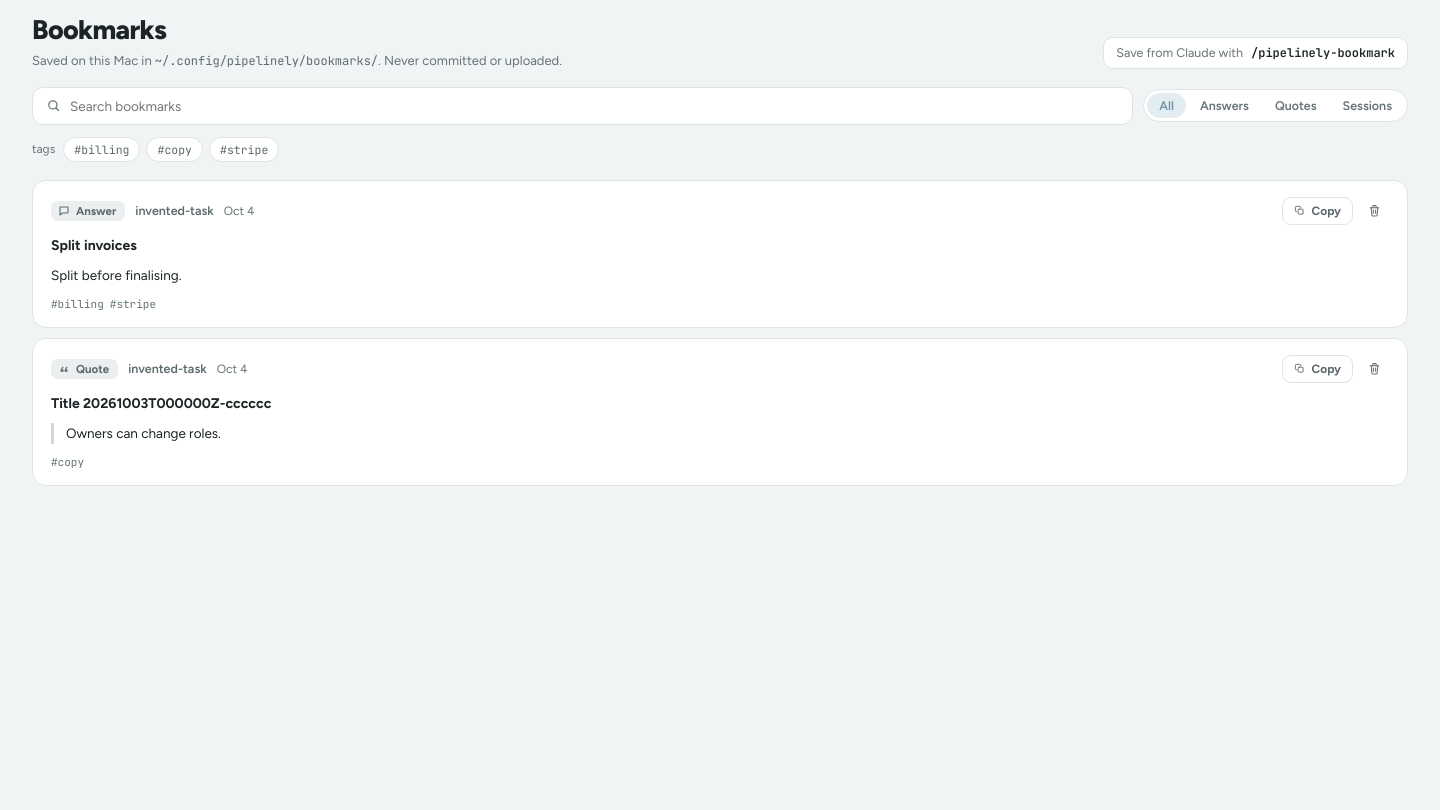
it: BookmarksPage delete with undo › a refused delete returns the card and shows the error
Click the 2nd button with test id "bookmark-item-delete" at x=1374, y=369, box [1359,354,1389,384]
Wait 5000 ms
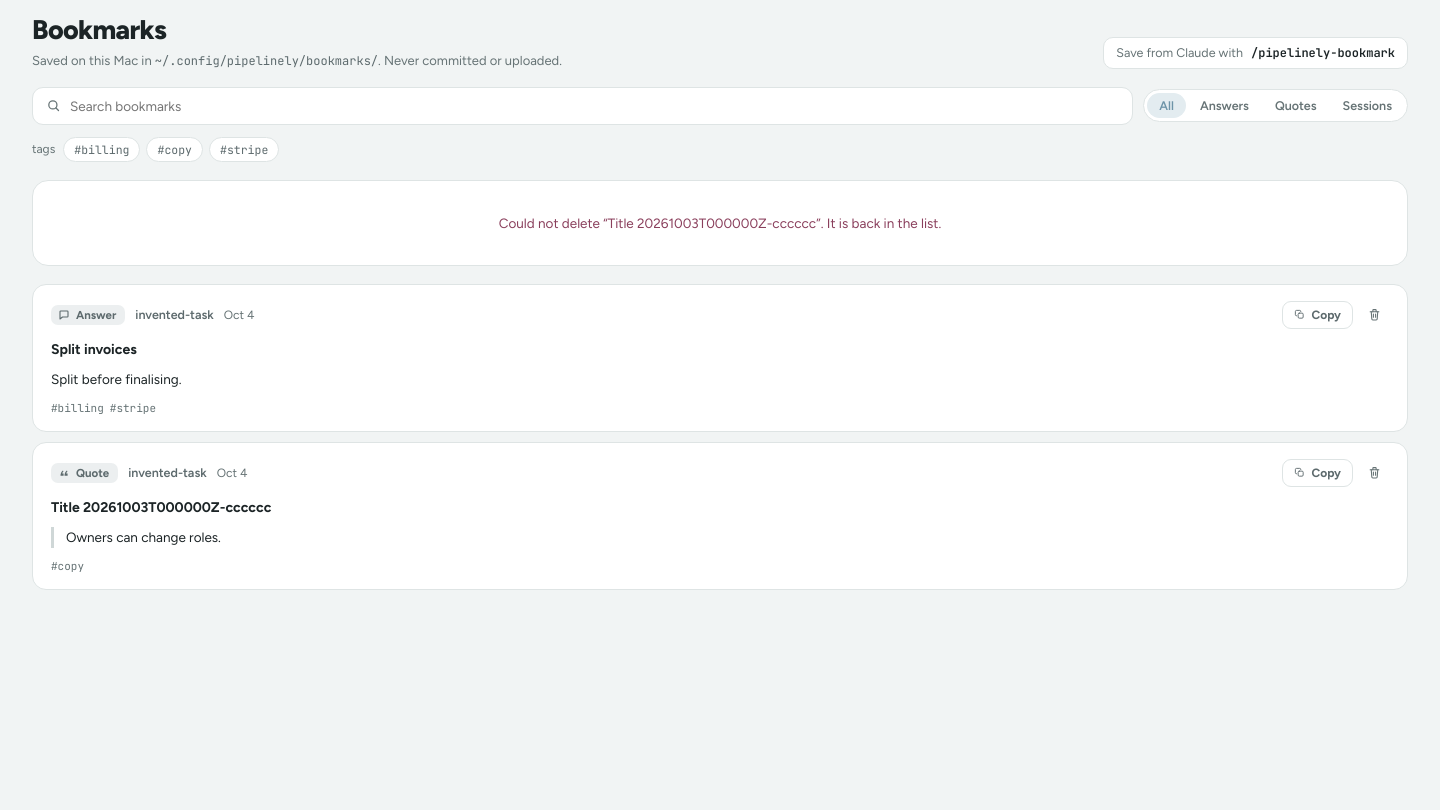
expect the message "Could not delete “Title 20261003T000000Z-cccccc”. It is back in the list." is shown: met, box [32,180,1408,266]
